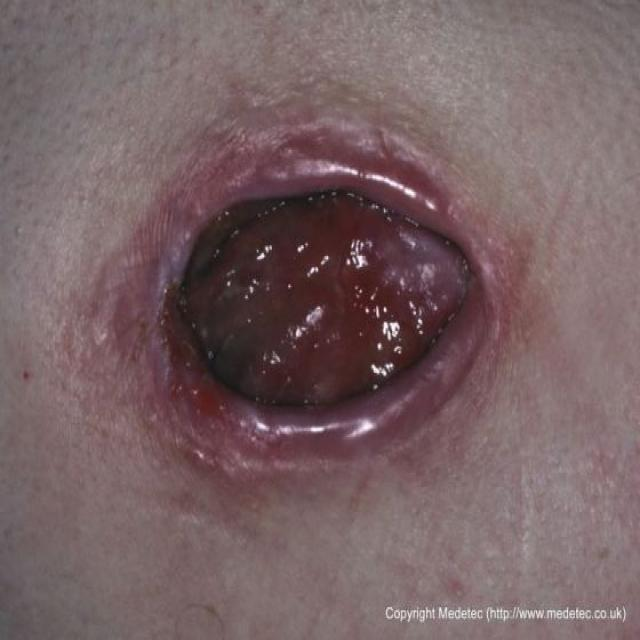stage-3: (173, 190, 465, 413)
